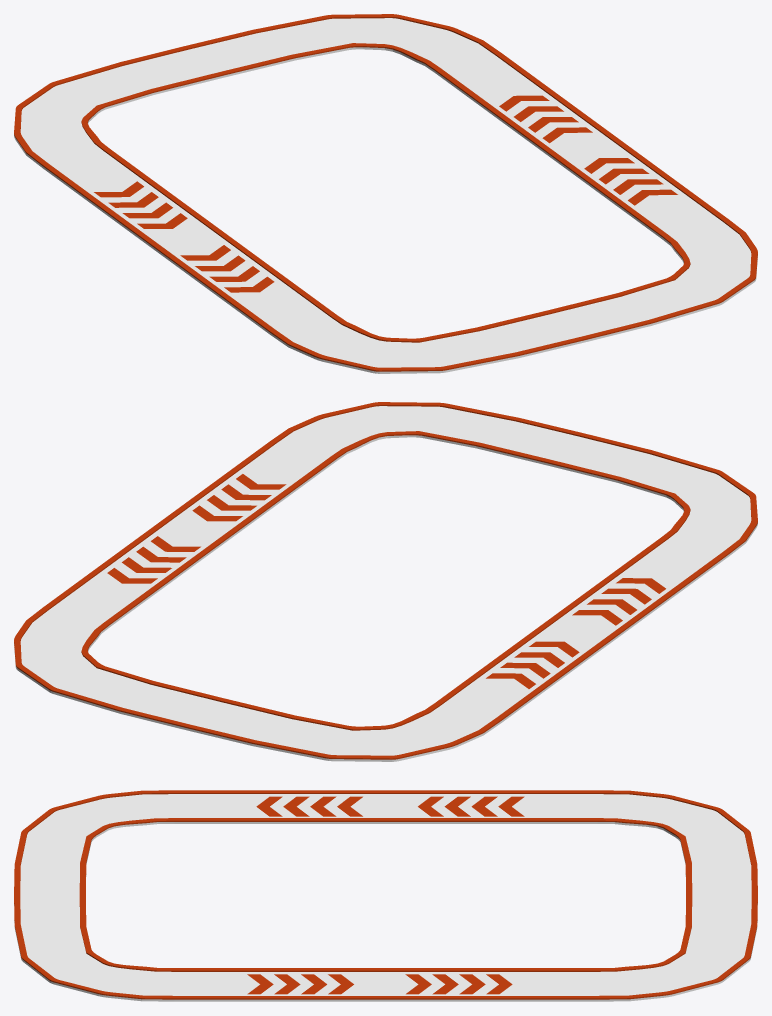
The model's file is CircuitMap 1.fbx.
3 views of the same model, one above another, from view 1: azimuth 30°, elevation 25°; view 2: azimuth 150°, elevation 25°; view 3: azimuth 270°, elevation 25° (orthographic). The views are drawn at different scales.
Parts seen in each view (by area): view 1: Cube.006, Cube.001, Cube.007, Cube.002, Cube.004, Cube.005, Cube, Cube.003; view 2: Cube.002, Cube.007, Cube.001, Cube.006, Cube.004, Cube.005, Cube, Cube.003; view 3: Cube.001, Cube.007, Cube.002, Cube.006, Cube.005, Cube, Cube.004, Cube.003.
Boxes of the visible parts, bbox=[...] form: Cube.006: bbox=[244, 296, 587, 373]; Cube.001: bbox=[185, 14, 529, 92]; Cube.007: bbox=[548, 199, 757, 341]; Cube.002: bbox=[14, 46, 224, 188]; Cube.004: bbox=[157, 232, 310, 315]; Cube.005: bbox=[70, 169, 223, 251]; Cube: bbox=[462, 73, 615, 154]; Cube.003: bbox=[547, 137, 700, 218]; Cube.002: bbox=[186, 683, 529, 761]; Cube.007: bbox=[242, 402, 583, 480]; Cube.001: bbox=[14, 587, 224, 730]; Cube.006: bbox=[547, 433, 757, 575]; Cube.004: bbox=[549, 556, 702, 638]; Cube.005: bbox=[463, 619, 616, 701]; Cube: bbox=[71, 524, 224, 606]; Cube.003: bbox=[157, 461, 309, 543]; Cube.001: bbox=[545, 893, 757, 1001]; Cube.007: bbox=[14, 894, 226, 1001]; Cube.002: bbox=[545, 790, 757, 895]; Cube.006: bbox=[14, 790, 226, 896]; Cube.005: bbox=[384, 790, 545, 823]; Cube: bbox=[384, 968, 545, 1001]; Cube.004: bbox=[223, 790, 384, 823]; Cube.003: bbox=[226, 968, 387, 1001].
Bounding box in the file's own units: 7831 × 56 × 11830.
